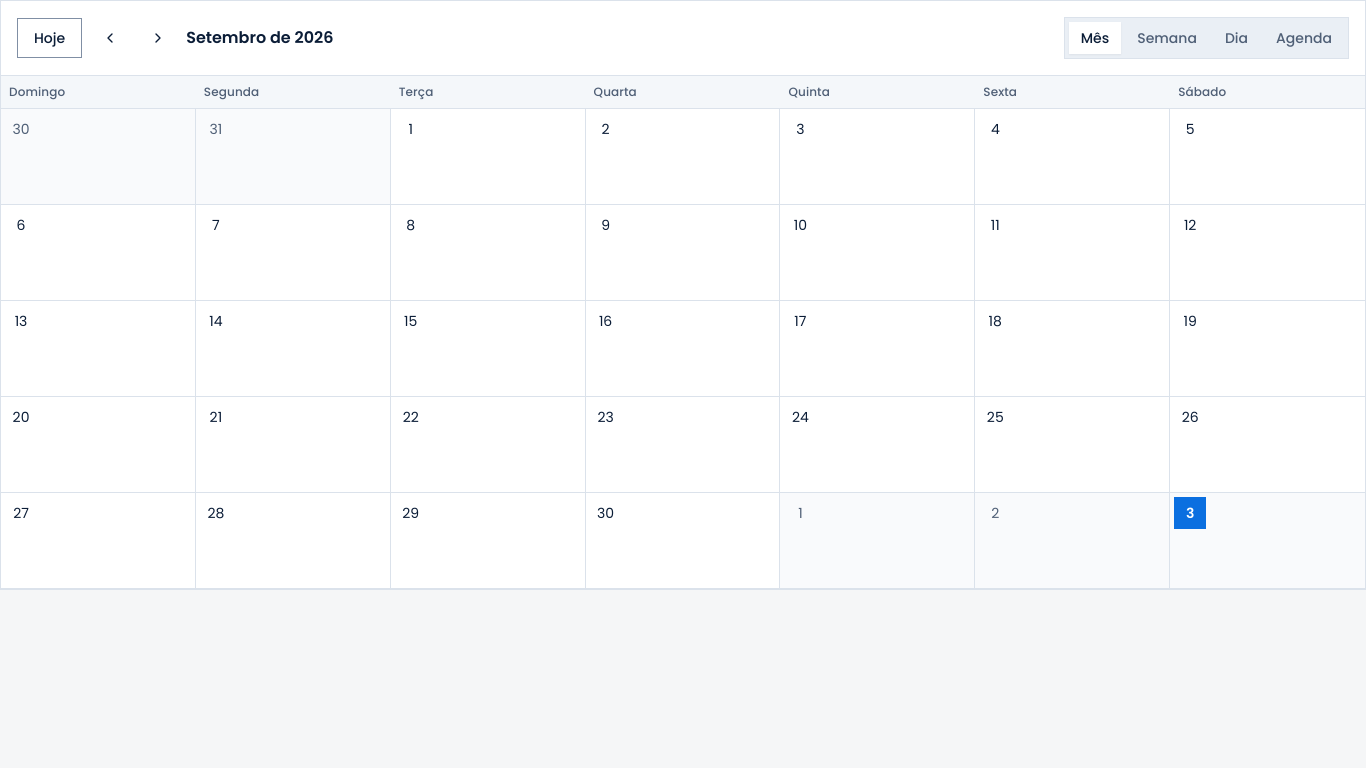
Test: Calendar › navegar de mês troca o mês exibido no cabeçalho
Expected: the heading "Setembro de 2026" is shown, [186,26,333,50]
What coordinates should you click on to do the following:
click the button named "Próximo"
I would click on:
 (158, 38)
Its box is [138,18,178,58].
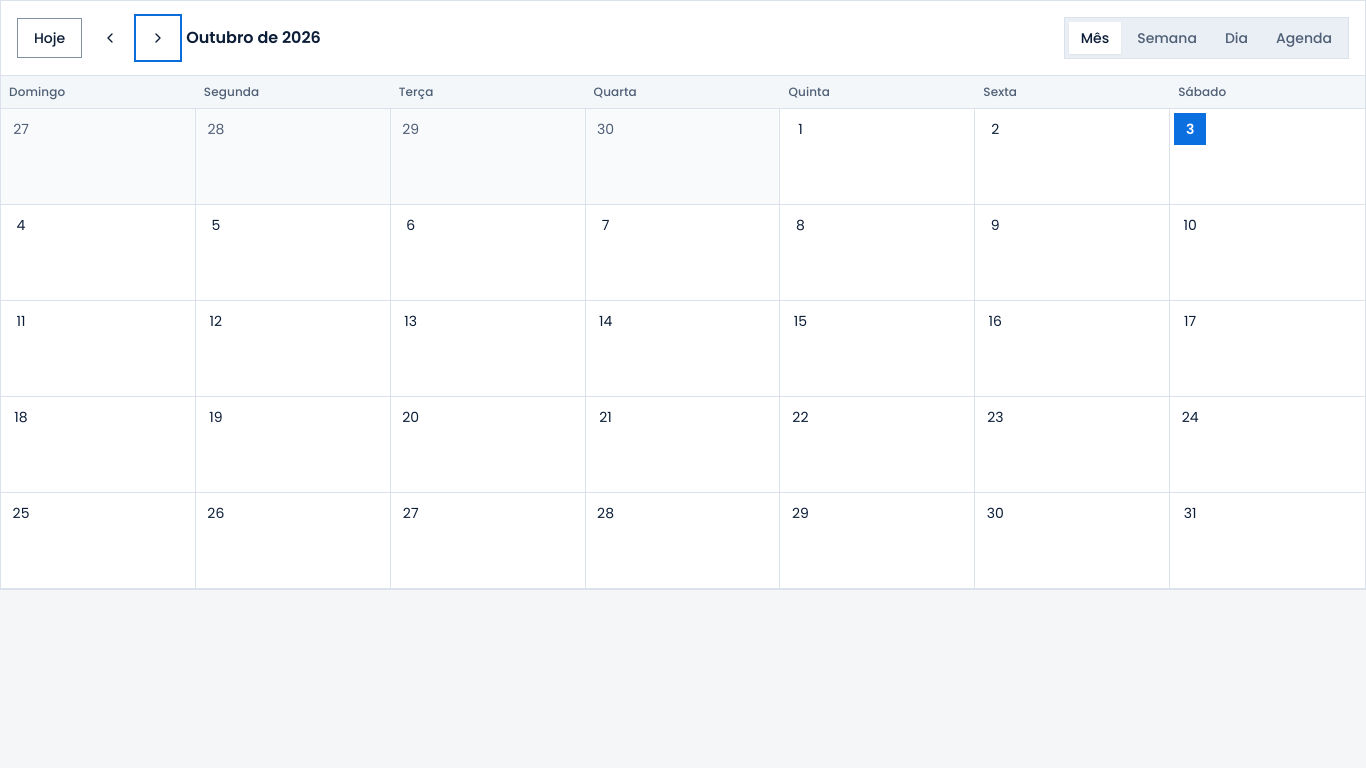
Expected: the heading "Setembro de 2026" is gone
Expected: the heading "Outubro de 2026" is shown, [186,26,321,50]
What coordinates should you click on to do the following:
click the button named "Anterior"
I would click on:
 (110, 38)
Its box is [90,18,130,58].
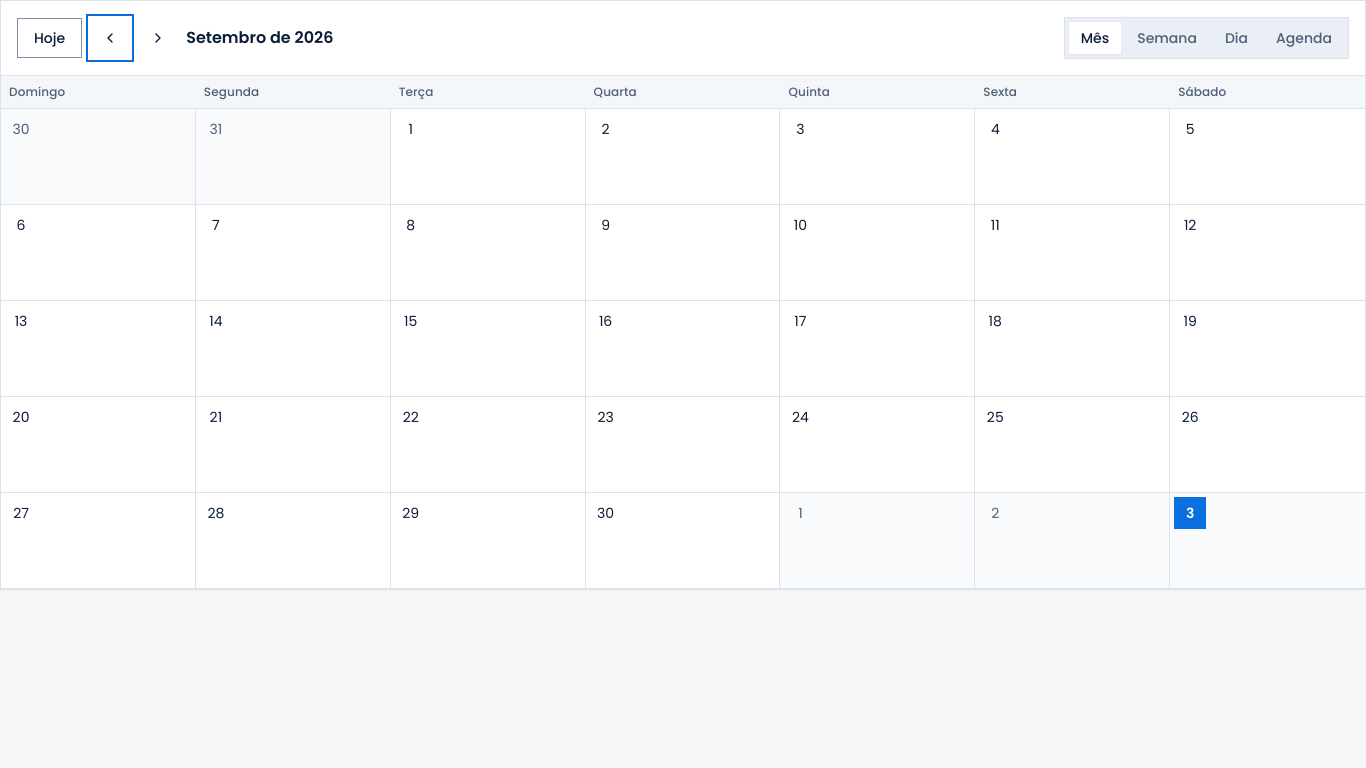
Expected: the heading "Setembro de 2026" is shown, [186,26,333,50]
